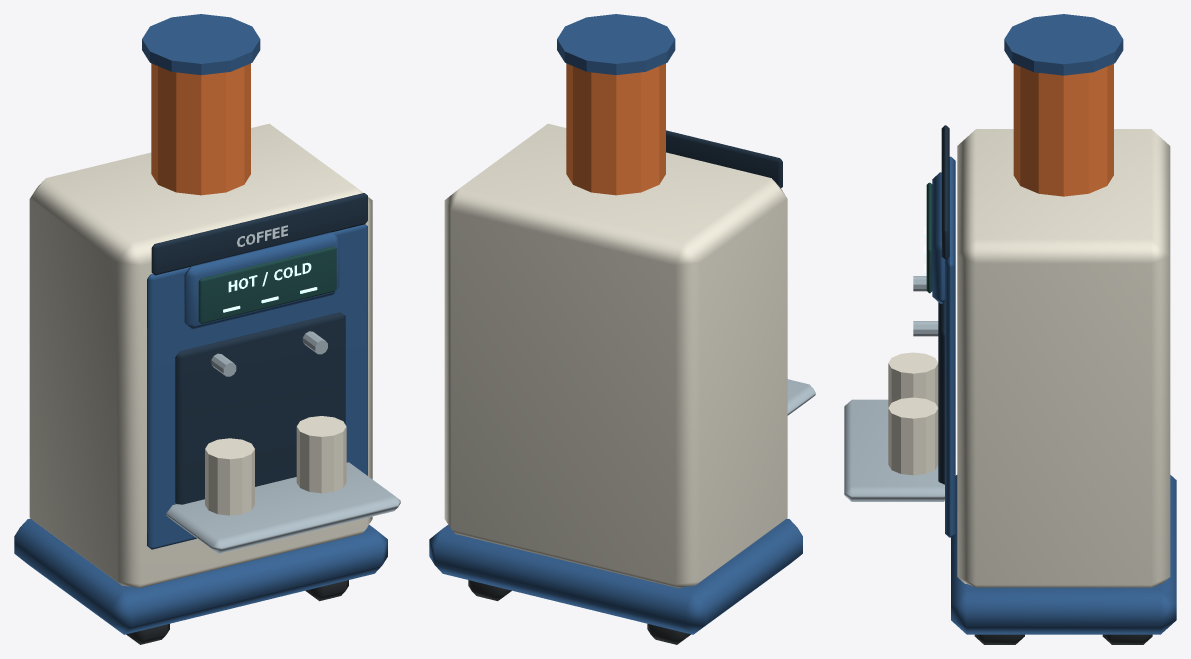
The model's file is Coffee_Brewer.glb.
The picture shows the model from 3 angles, left to right: view 1: azimuth 30°, elevation 25°; view 2: azimuth 150°, elevation 25°; view 3: azimuth 270°, elevation 25°; orthographic projection.
Visible parts, largest first — view 1: Coffee_Brewer; view 2: Coffee_Brewer; view 3: Coffee_Brewer.
Boxes of the visible parts, x1,y1,x2,y2 form: Coffee_Brewer: (14,14,400,644); Coffee_Brewer: (429,14,815,644); Coffee_Brewer: (844,14,1176,644).
Bounding box in the file's own units: 1.03 × 1.96 × 1.06.
